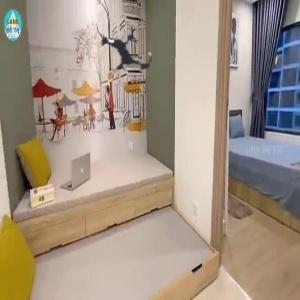drone: (79, 1, 177, 99)
